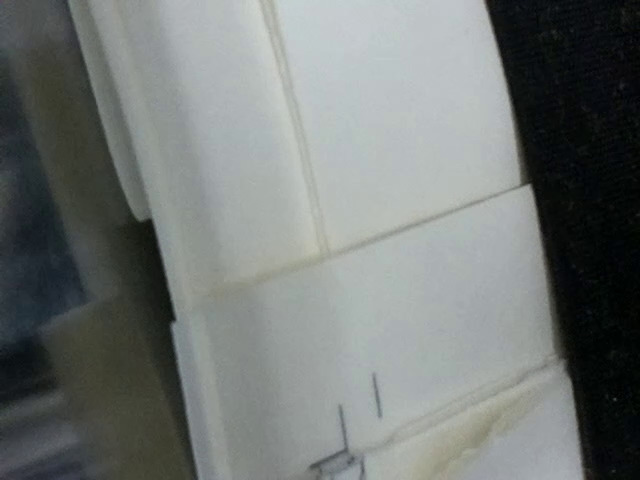misaligned: (296, 404, 366, 480)
